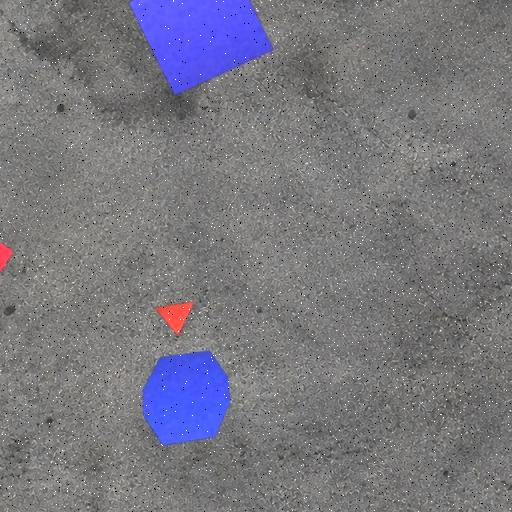BLUE_SQUARE: (128, 0, 274, 97)
